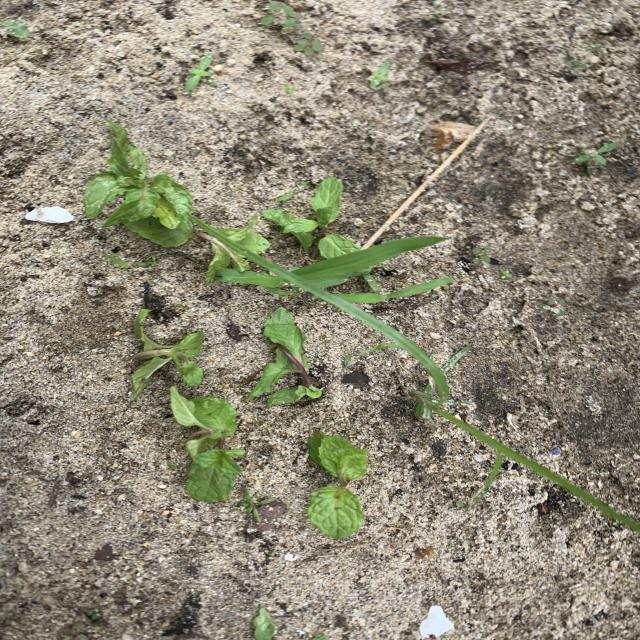crop: (83, 122, 193, 247), (170, 387, 245, 502), (247, 307, 321, 407), (130, 309, 204, 400), (261, 178, 342, 259), (308, 432, 368, 539), (219, 213, 269, 253), (206, 242, 250, 283), (317, 233, 360, 259)
weed: (411, 391, 640, 533), (309, 290, 468, 405), (292, 240, 429, 282), (335, 277, 453, 304), (226, 271, 299, 296)
